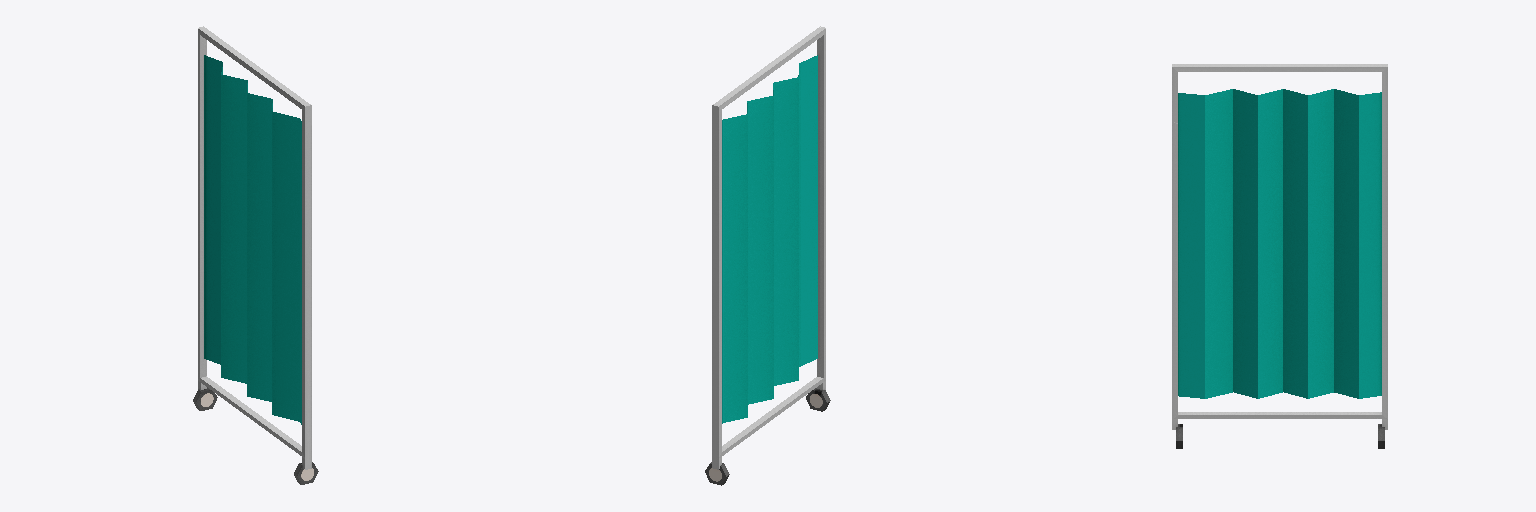
3 renders of one model, left to right at view 1: azimuth 30°, elevation 25°; view 2: azimuth 150°, elevation 25°; view 3: azimuth 270°, elevation 25°, orthographic.
Parts seen in each view (by area): view 1: Plane.001; view 2: Plane.001; view 3: Plane.001.
Boxes of the visible parts, box(x1,y1,x2,y2) form: Plane.001: box(193, 26, 318, 484); Plane.001: box(705, 26, 830, 485); Plane.001: box(1172, 64, 1387, 448).
Size of the model in its own units: 0.4552 by 7.64 by 3.93.
1 materials, 1 textured.